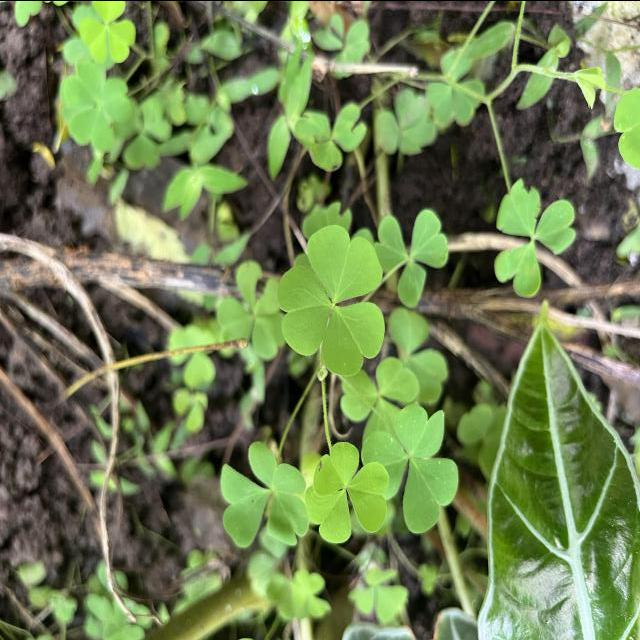Oxalis corniculata: (271, 222, 386, 379), (359, 404, 461, 534), (489, 175, 579, 302), (216, 438, 307, 548), (304, 438, 389, 548), (372, 206, 449, 310)
